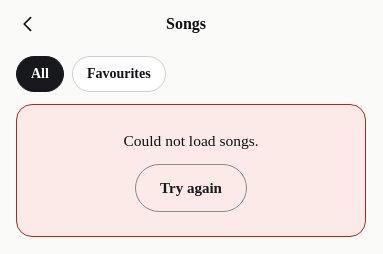
Test: SongsListScreen › subscribes again, and shows the songs, when Try again is pressed
The width and height of the screenshot is (383, 254).
Expected: the element with test id "songs-error" is shown, x1=16 y1=104 x2=366 y2=237
Click the button "Try again". click: [191, 188]
box: x1=135 y1=164 x2=247 y2=212
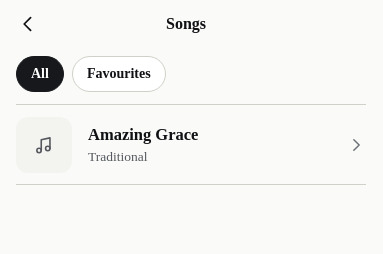
Now the text "Amazing Grace" is shown, box x1=88 y1=125 x2=198 y2=144
Now the element with test id "songs-error" is gone
